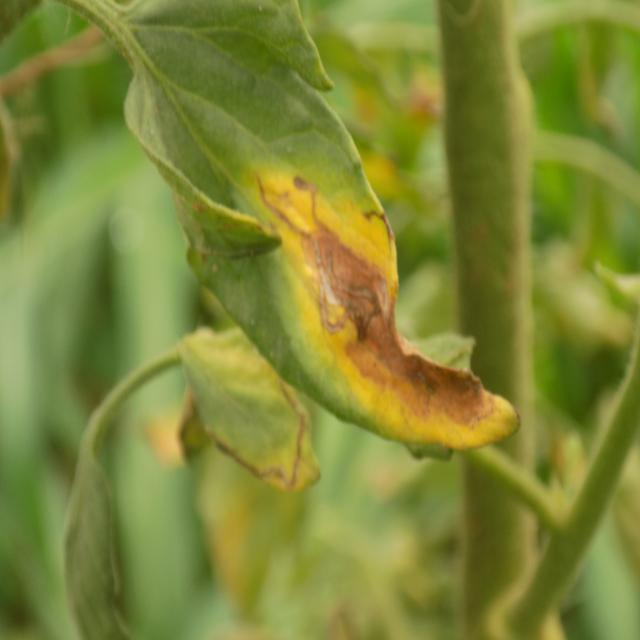tomato_early blight: (60, 0, 527, 459), (177, 318, 327, 490)
